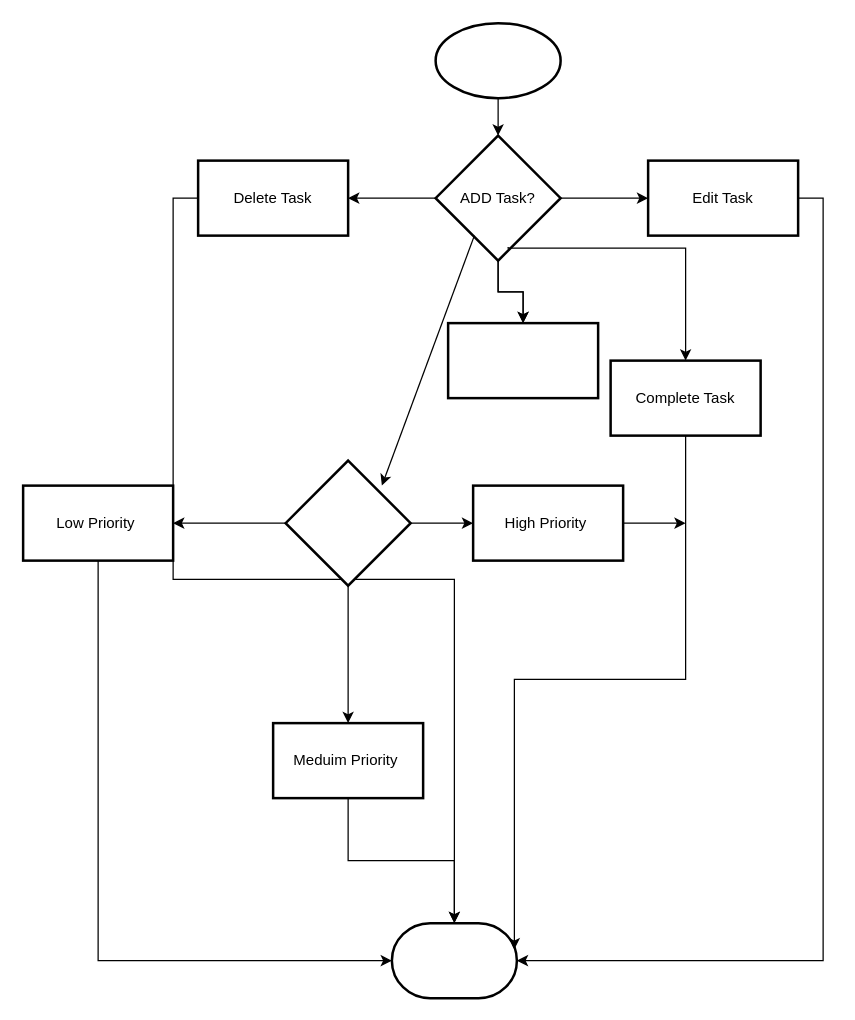
Some shapes in this 855 by 1020 pixel diagram are drawn without their labels. The centre of each missing label's shape, as x and y in pixels:
Add Task Details (Task Title, due date, reminder date): (522,360)
End: (454,960)
Filter task?: (347,522)
Start (Home Page): (497,60)
